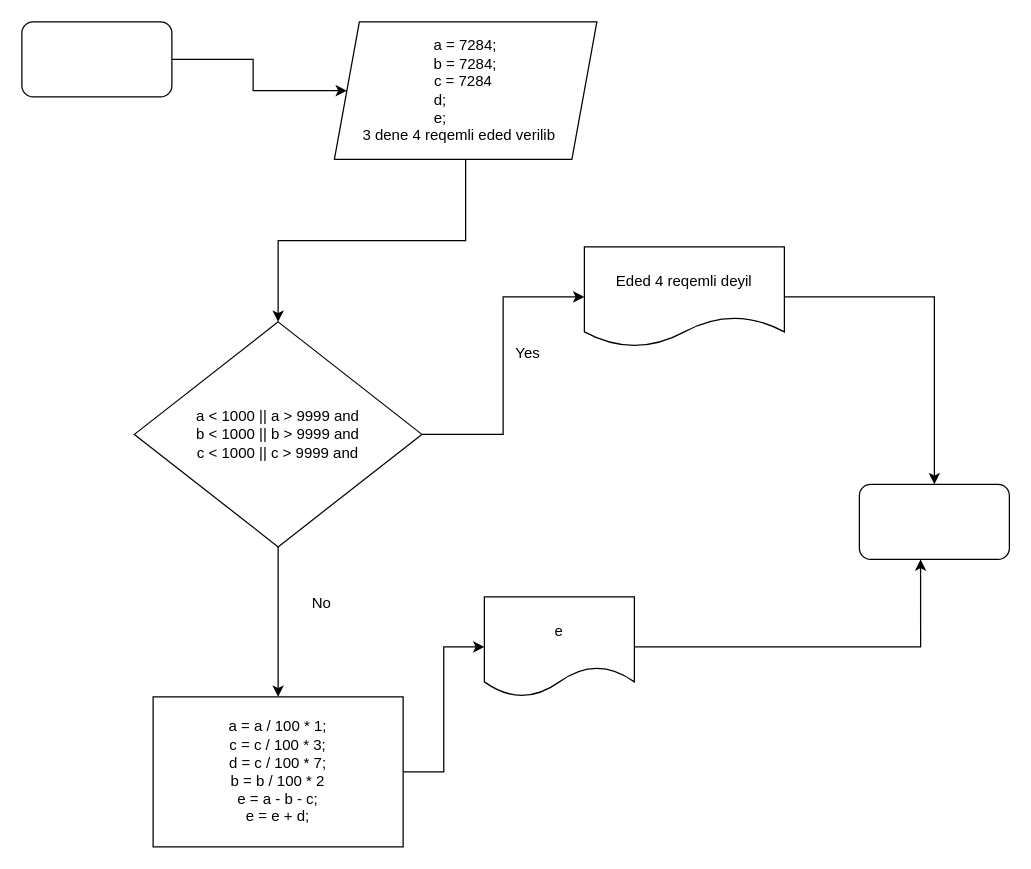
Some shapes in this 1031 by 869 pixel diagram are drawn without their labels. The shapes that lost their labels are listed below. From the top down, each one's centre as x and y in pixels, then its label:
At (96,59): "start".
At (933,521): "End".
